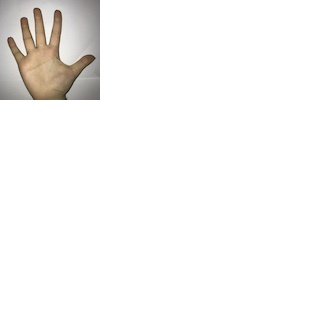paper: (6, 3, 95, 99)
